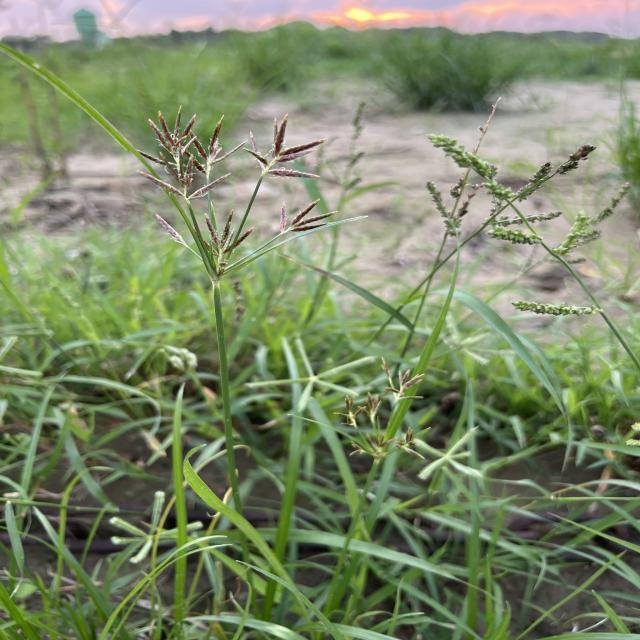cyperus: (133, 105, 364, 296), (334, 354, 438, 466)
